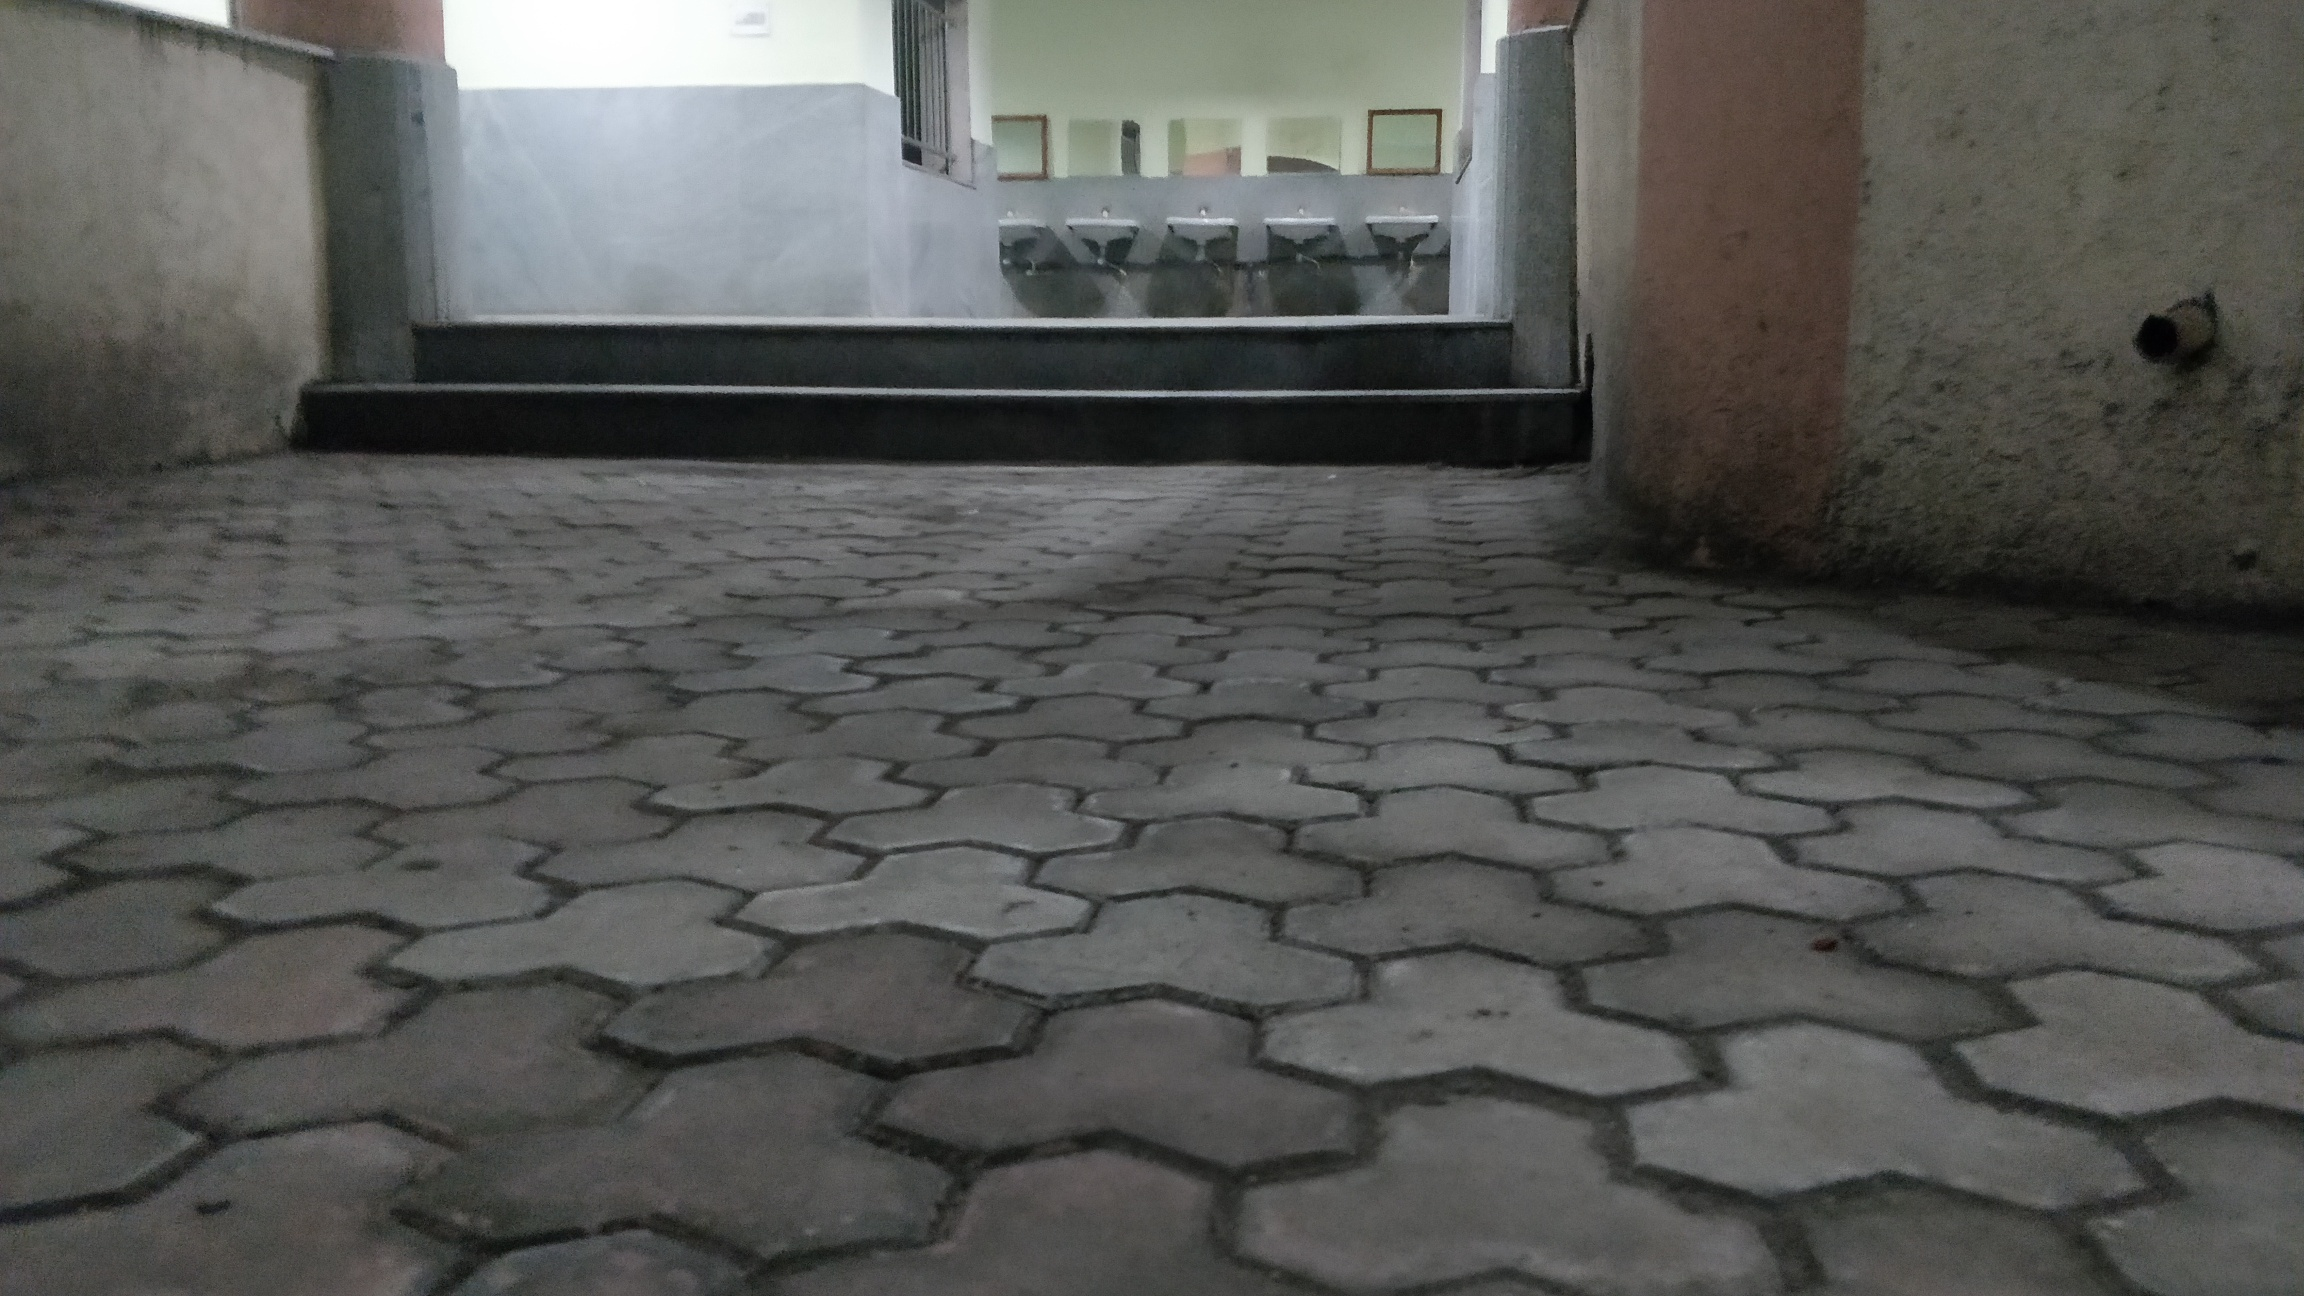stairs_up: (297, 312, 1584, 456)
